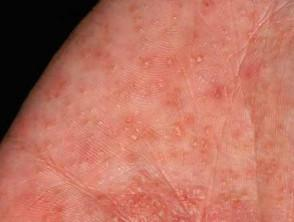Eczema: (33, 80, 93, 120), (126, 190, 192, 219), (162, 124, 191, 147), (224, 196, 247, 220), (205, 84, 228, 104), (133, 49, 157, 68), (168, 86, 187, 110), (161, 51, 183, 71), (194, 52, 214, 72), (127, 128, 147, 144)
